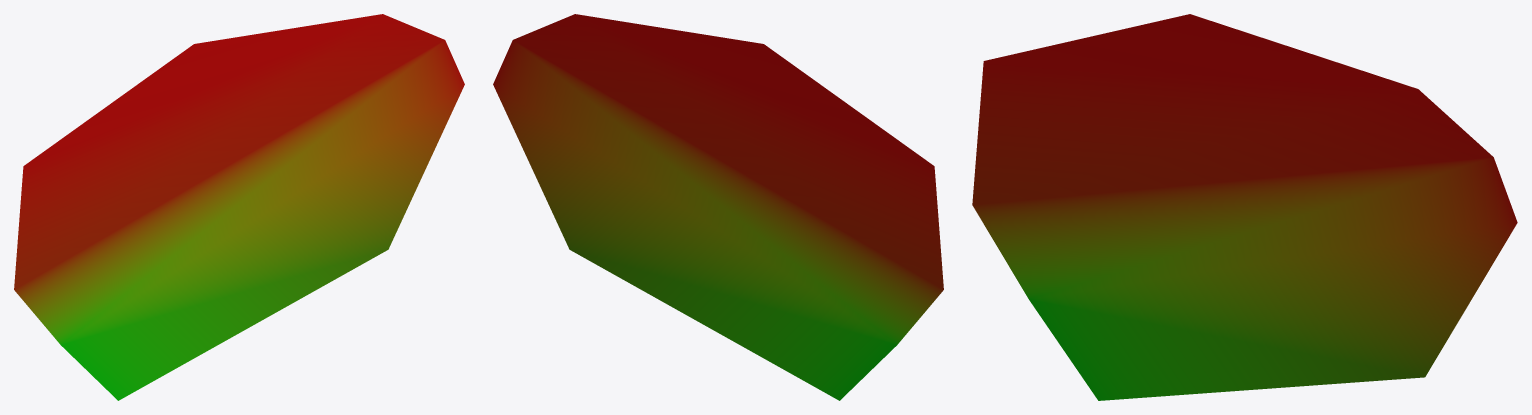
The model's file is Var12_LOD6.fbx.
The picture shows the model from 3 angles, left to right: view 1: azimuth 30°, elevation 25°; view 2: azimuth 150°, elevation 25°; view 3: azimuth 330°, elevation 25°; orthographic projection. The views are drawn at different scales.
Visible parts, largest first — view 1: _ubnp_Var12_LOD6; view 2: _ubnp_Var12_LOD6; view 3: _ubnp_Var12_LOD6.
Boxes of the visible parts, bbox=[...] form: _ubnp_Var12_LOD6: bbox=[14, 14, 464, 400]; _ubnp_Var12_LOD6: bbox=[493, 14, 943, 400]; _ubnp_Var12_LOD6: bbox=[972, 14, 1517, 400].
Bounding box in the file's own units: 243 × 174 × 2.47e-05.
